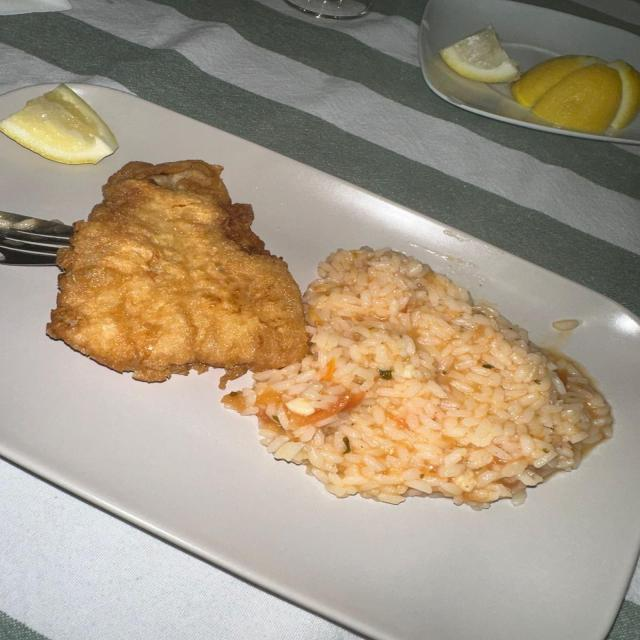board: (0, 85, 639, 640)
fish: (47, 160, 308, 381)
fork: (0, 211, 73, 266)
lime: (0, 84, 119, 164)
rice: (223, 248, 612, 507)
